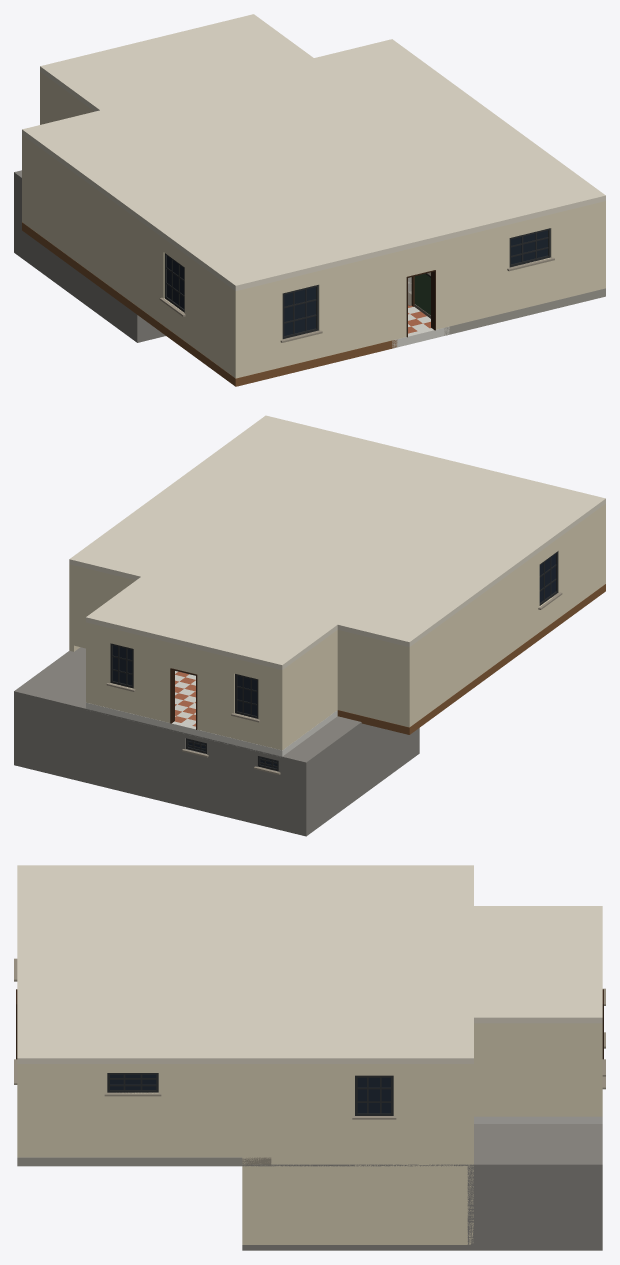
File: Wnetrze_Radio.fbx
The picture shows the model from 3 angles, top to bottom: view 1: azimuth 30°, elevation 25°; view 2: azimuth 150°, elevation 25°; view 3: azimuth 270°, elevation 25°; orthographic projection. The views are drawn at different scales.
Visible parts, largest first — view 1: Radio_Sufit_NOCOL, Radio_Sciany, Radio_Podloga, Radio_Piwnica_Sciany, Radio_Detal_NOCOL, Radio_Okna, Radio_Piwnica_Podloga, Radio_Lamperia; view 2: Radio_Sufit_NOCOL, Radio_Sciany, Radio_Piwnica_Sciany, Radio_Podloga, Radio_Piwnica_Sufit_NOCOL, Radio_Detal_NOCOL, Radio_Piwnica_Podloga, Radio_Okna; view 3: Radio_Sufit_NOCOL, Radio_Sciany, Radio_Piwnica_Sciany, Radio_Piwnica_Sufit_NOCOL, Radio_Podloga, Radio_Detal_NOCOL, Radio_Piwnica_Podloga, Radio_Okna.
Part boxes in pixels (box(x1,y1,x2,y2)): Radio_Sufit_NOCOL: box(22, 14, 605, 290); Radio_Sciany: box(22, 72, 605, 378); Radio_Podloga: box(22, 222, 605, 386); Radio_Piwnica_Sciany: box(14, 174, 160, 337); Radio_Detal_NOCOL: box(159, 228, 554, 342); Radio_Okna: box(167, 230, 547, 335); Radio_Piwnica_Podloga: box(14, 247, 165, 342); Radio_Lamperia: box(414, 274, 430, 315); Radio_Sufit_NOCOL: box(69, 415, 605, 669); Radio_Sciany: box(69, 504, 605, 750); Radio_Piwnica_Sciany: box(14, 692, 419, 831); Radio_Podloga: box(86, 584, 605, 757); Radio_Piwnica_Sufit_NOCOL: box(14, 647, 361, 763); Radio_Detal_NOCOL: box(106, 551, 562, 774); Radio_Piwnica_Podloga: box(14, 749, 419, 836); Radio_Okna: box(113, 554, 555, 768); Radio_Sufit_NOCOL: box(17, 865, 602, 1063); Radio_Sciany: box(17, 1023, 602, 1244); Radio_Piwnica_Sciany: box(467, 1166, 602, 1244); Radio_Piwnica_Sufit_NOCOL: box(242, 1124, 602, 1166); Radio_Podloga: box(17, 1116, 602, 1166); Radio_Detal_NOCOL: box(14, 958, 605, 1119); Radio_Piwnica_Podloga: box(242, 1245, 602, 1250); Radio_Okna: box(110, 1074, 390, 1113).
Bounding box in the file's own units: 14.4 × 6.6 × 18.4.
